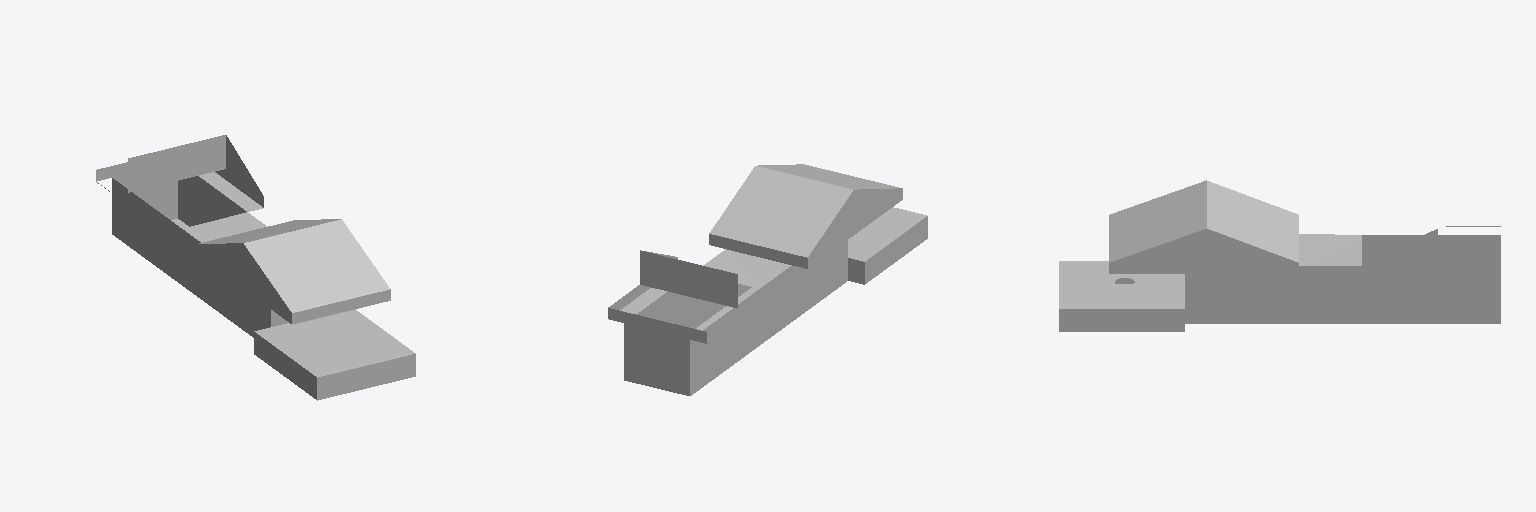
The model's file is original-20.obj.
3 views of the same model, side by side, from view 1: azimuth 30°, elevation 25°; view 2: azimuth 150°, elevation 25°; view 3: azimuth 270°, elevation 25° (orthographic).
Visible parts, largest first — view 1: #ID103; view 2: #ID103; view 3: #ID103.
Boxes of the visible parts, x1=… form: #ID103: x1=96, y1=135, x2=415, y2=400; #ID103: x1=608, y1=164, x2=927, y2=395; #ID103: x1=1059, y1=180, x2=1500, y2=331.
Size of the model in its own units: 0.1313 by 0.1313 by 0.5107.